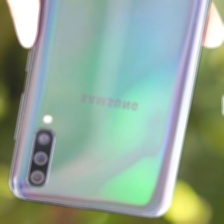phone: (7, 0, 224, 223)
